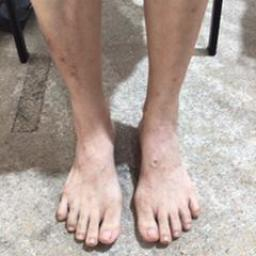Dorsal View -Both Feet-: (49, 85, 209, 252)
